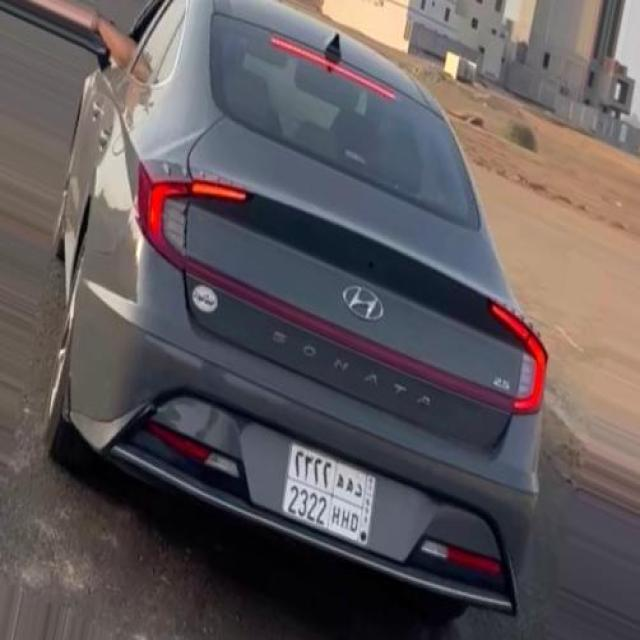Car-plate: (274, 432, 384, 558)
